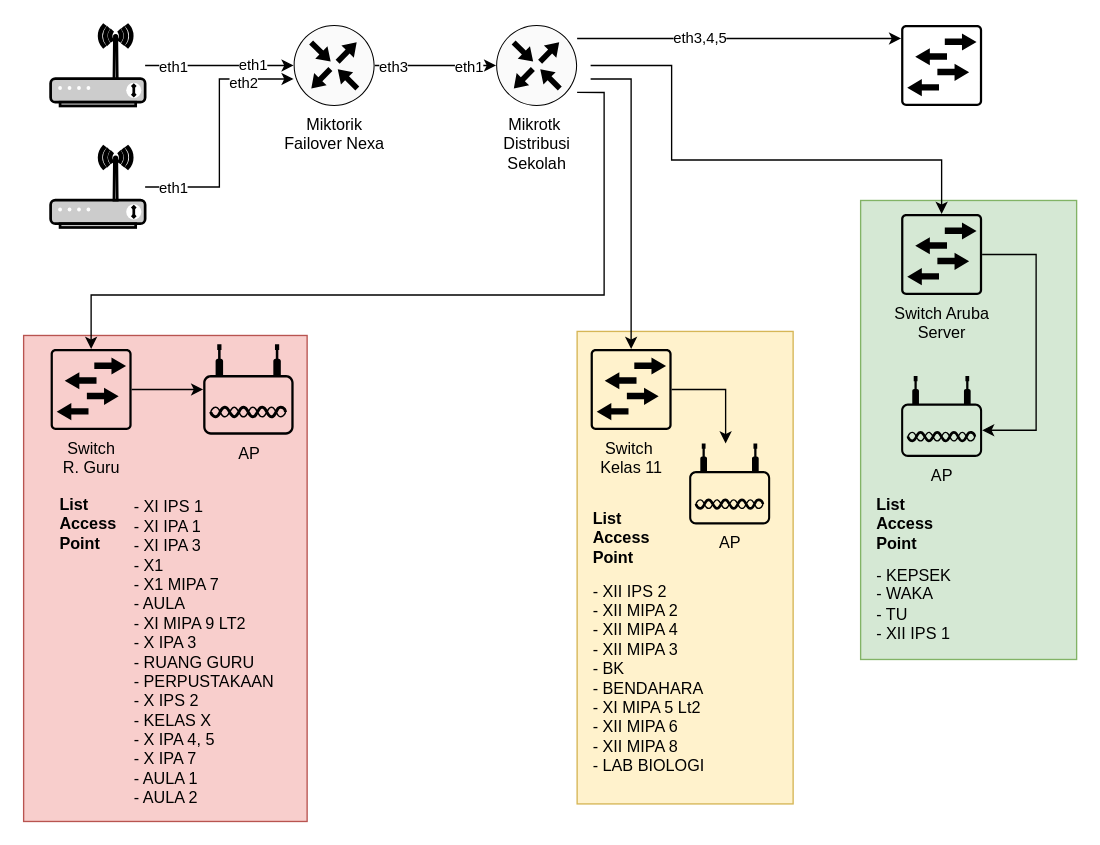
Some shapes in this 1100 by 845 pixel diagram are drawn without their labels. Here are the shapes that lost their labels. From the top down, the centre of each, then its label:
At point 97,65: "Modem Nexa".
At point 941,65: "3 Lab Komputer".
At point 97,186: "Modem Nexa Backup".
